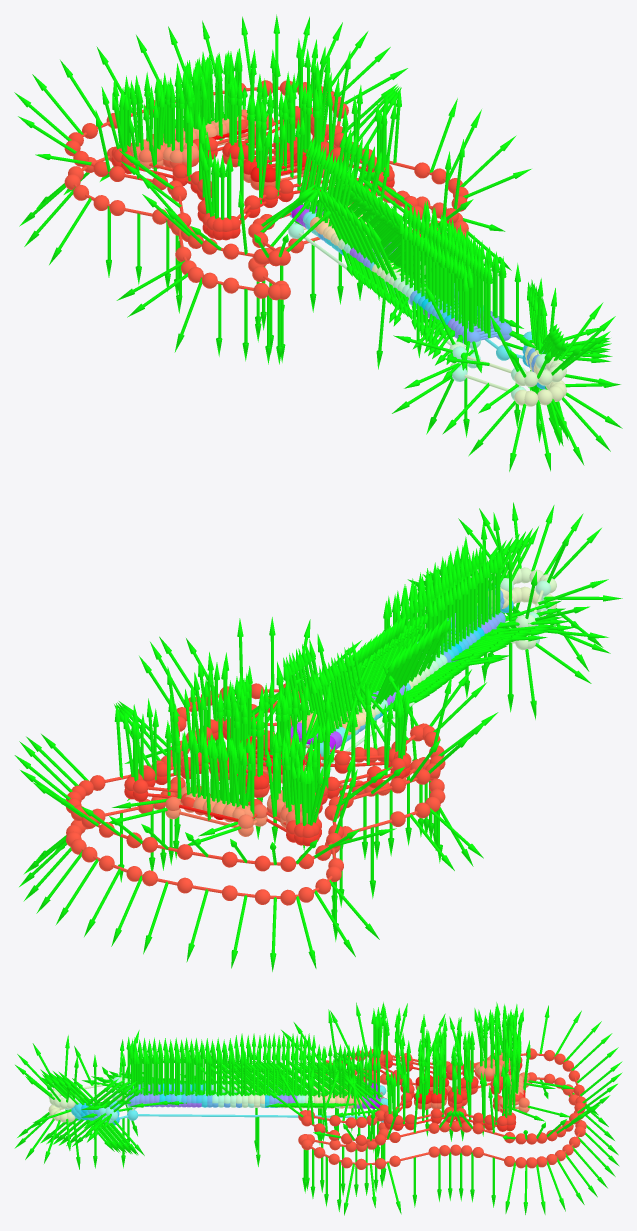
Rendered from onshape_guitar.gltf.
3 views of the same model, one above another, from view 1: azimuth 30°, elevation 25°; view 2: azimuth 150°, elevation 25°; view 3: azimuth 270°, elevation 25° (orthographic). The views are drawn at different scales.
Size of the model in its own units: 0.5349 by 0.265 by 1.07.
